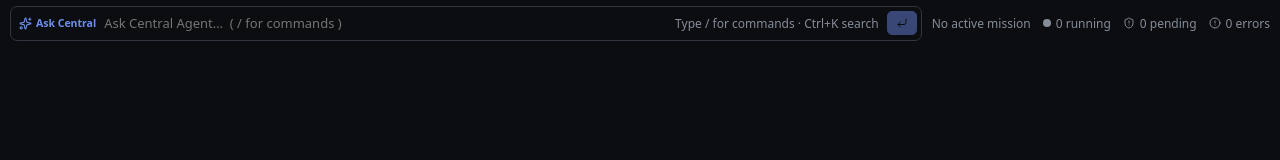
it: universal command bar › suggests slash commands and completes them with Tab
Type "/mi" into the dropdown labelled "Ask Central Agent… ( / for commands )" at (386, 23), box [104,10,667,37]
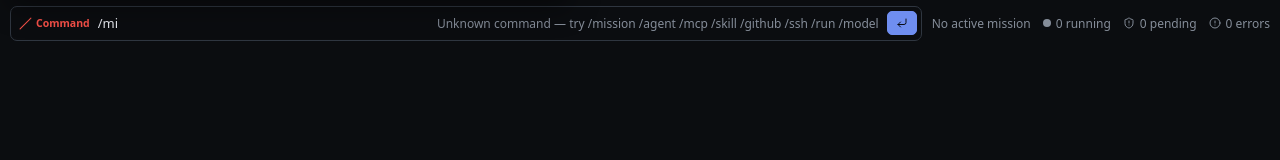
Press Tab in the dropdown named "Ask Central Agent", box [98,10,429,37]
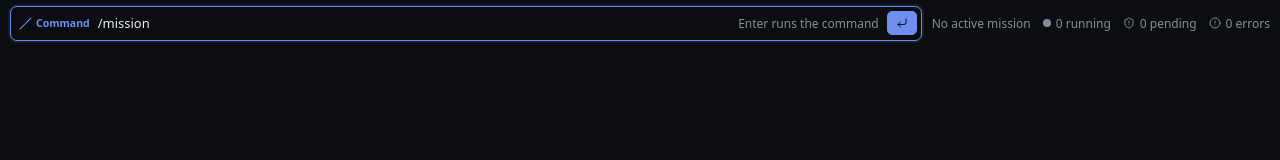
Expected: the dropdown named "Ask Central Agent" holds "/mission ", [98,10,730,37]
